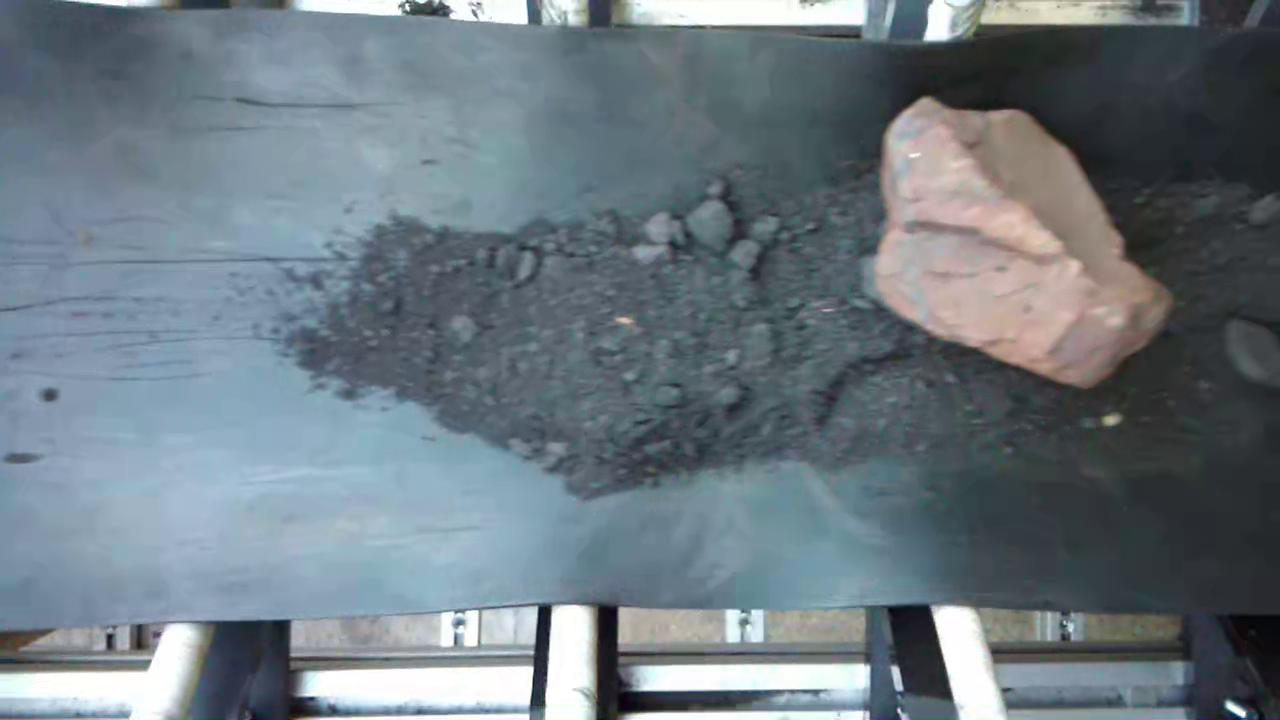conveyor: (0, 40, 1280, 598)
